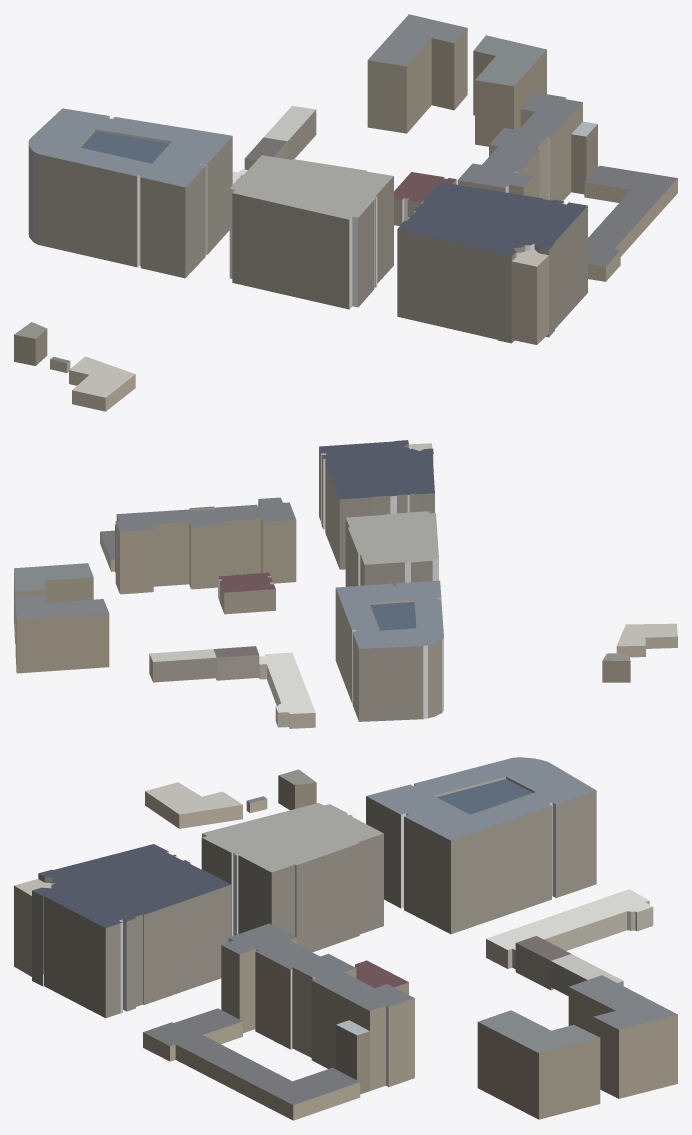
3 renders of one model, top to bottom at view 1: azimuth 30°, elevation 25°; view 2: azimuth 150°, elevation 25°; view 3: azimuth 270°, elevation 25°, orthographic. The views are drawn at different scales.
Visible parts, largest first — view 1: tuile; view 2: tuile; view 3: tuile.
Part boxes in pixels (x1,y1,x2,y2): tuile: (14, 14, 677, 411); tuile: (14, 440, 677, 728); tuile: (14, 757, 677, 1120).
Size of the model in its own units: 270 by 41.89 by 227.
